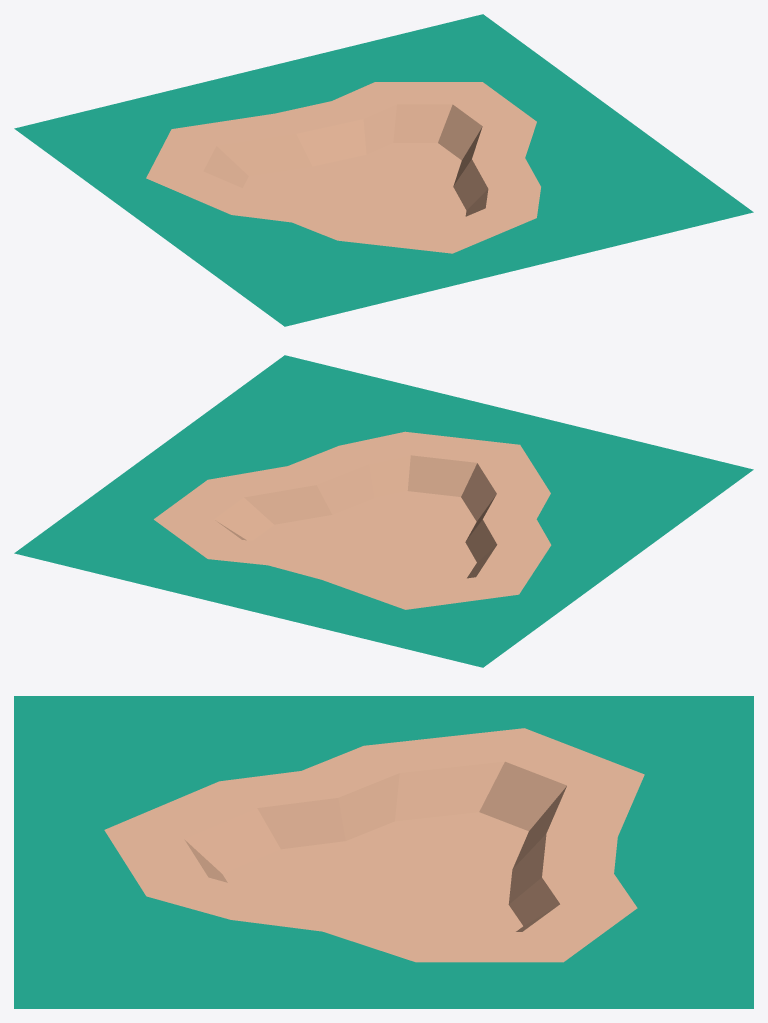
The model's file is ground_pathTile.glb.
The picture shows the model from 3 angles, top to bottom: view 1: azimuth 30°, elevation 25°; view 2: azimuth 150°, elevation 25°; view 3: azimuth 270°, elevation 25°; orthographic projection. The views are drawn at different scales.
Visible parts, largest first — view 1: ground_pathTile; view 2: ground_pathTile; view 3: ground_pathTile.
Boxes of the visible parts, x1,y1,x2,y2 form: ground_pathTile: (14,14,753,326); ground_pathTile: (14,355,753,667); ground_pathTile: (14,696,753,1008).
Size of the model in its own units: 1.2 by 0.06 by 1.2.
